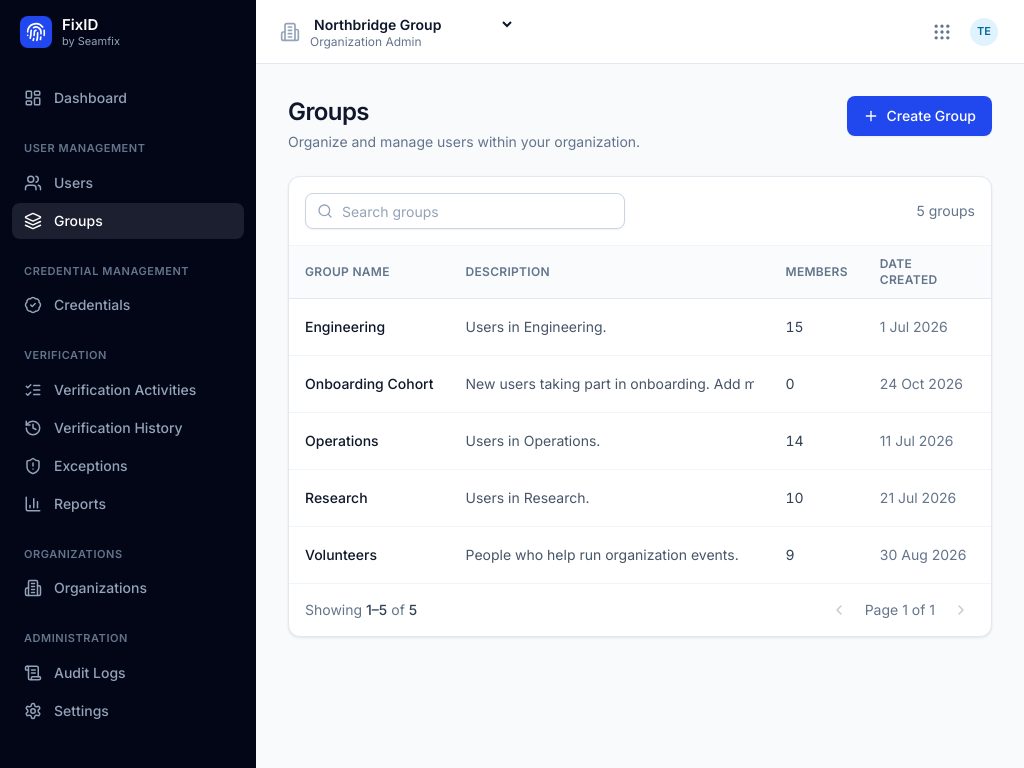
Test: #007 neutral placeholders › uses neutral examples for groups and activities
Later steps or results of the test are not shown.
Click the button "Create Group" at (919,116), box [846,96,992,136]
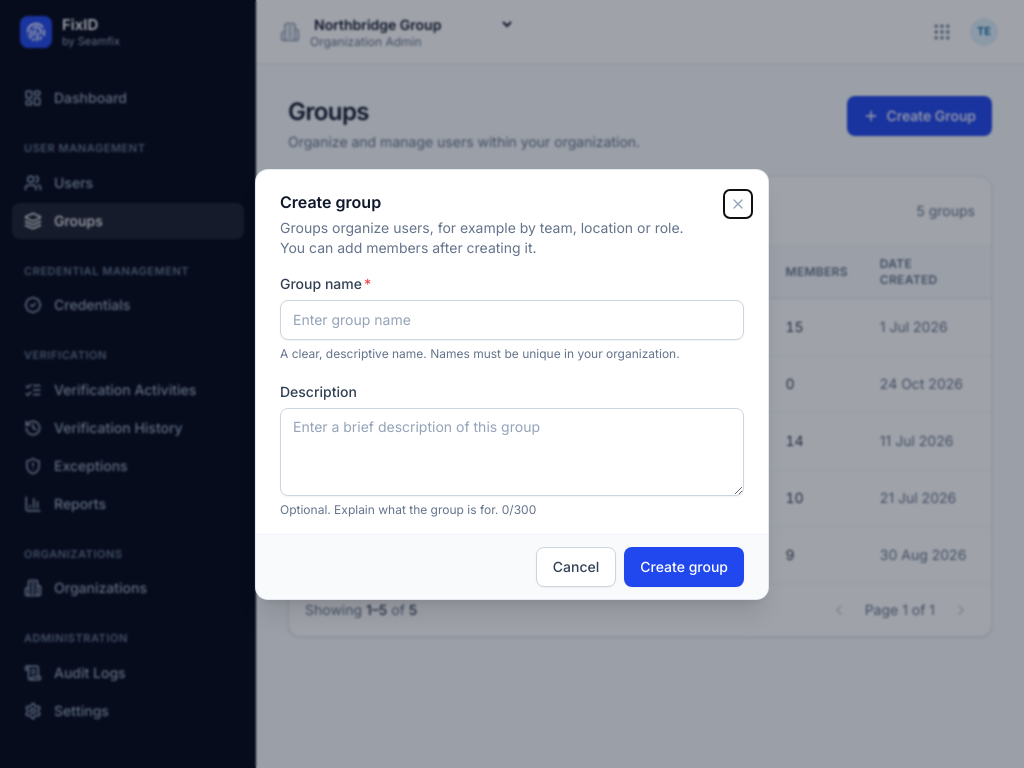
Now the field with placeholder "Enter group name" is shown, box [280,300,744,340]
Now the text box with placeholder "Enter a brief description of this group" is shown, box [280,408,744,496]
